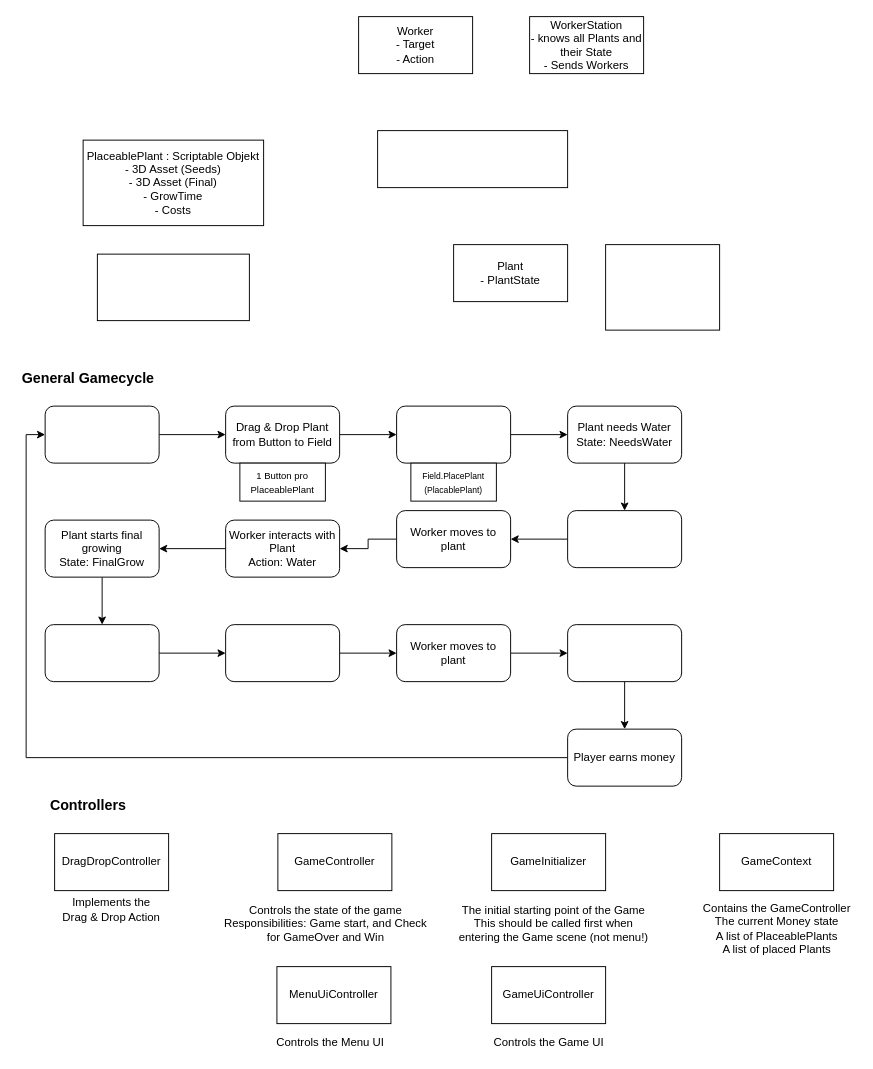
This 873x1069 diagram has some shape labels left out. The shapes that lost their labels are listed below. From the top down, each one's box as (x1, y1, x2, y2) in pixels, then its label:
(377, 130, 568, 188): Field - Plant? + PlacePlant(PlaceablePlant) + IsOccupied
(96, 253, 249, 321): UI Available Plants with Costs and maybe "Build Time" Money Hire Workers?
(605, 244, 720, 330): PlantState SeedGrow NeedsWater FinalGrow FullyGrown
(44, 405, 159, 463): Player has enough money
(396, 405, 511, 463): Plant starts growing State: SeedGrow
(567, 510, 682, 568): WorkerStation sends Worker to water plant
(44, 624, 159, 682): Plant is fully grown State: FullyGrown
(225, 624, 340, 682): WorkerStation sends Worker to harvest plant
(567, 624, 682, 682): Worker interacts with Plant Action: Harvest
